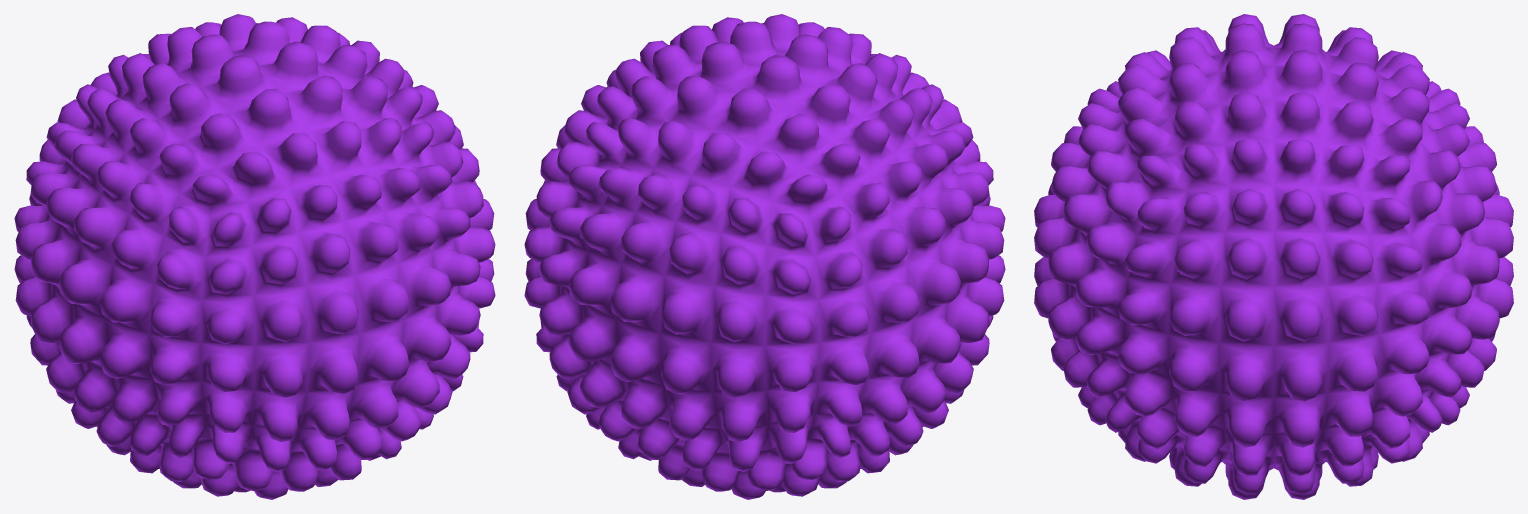
The model's file is enemy.gltf.
3 renders of one model, left to right at view 1: azimuth 30°, elevation 25°; view 2: azimuth 150°, elevation 25°; view 3: azimuth 270°, elevation 25°, orthographic.
Parts seen in each view (by area): view 1: enemy; view 2: enemy; view 3: enemy.
Part boxes in pixels (<box>): enemy: <box>14,14,495,499</box>; enemy: <box>524,14,1005,499</box>; enemy: <box>1034,14,1513,499</box>.
Size of the model in its own units: 3.94 by 3.94 by 3.94.
